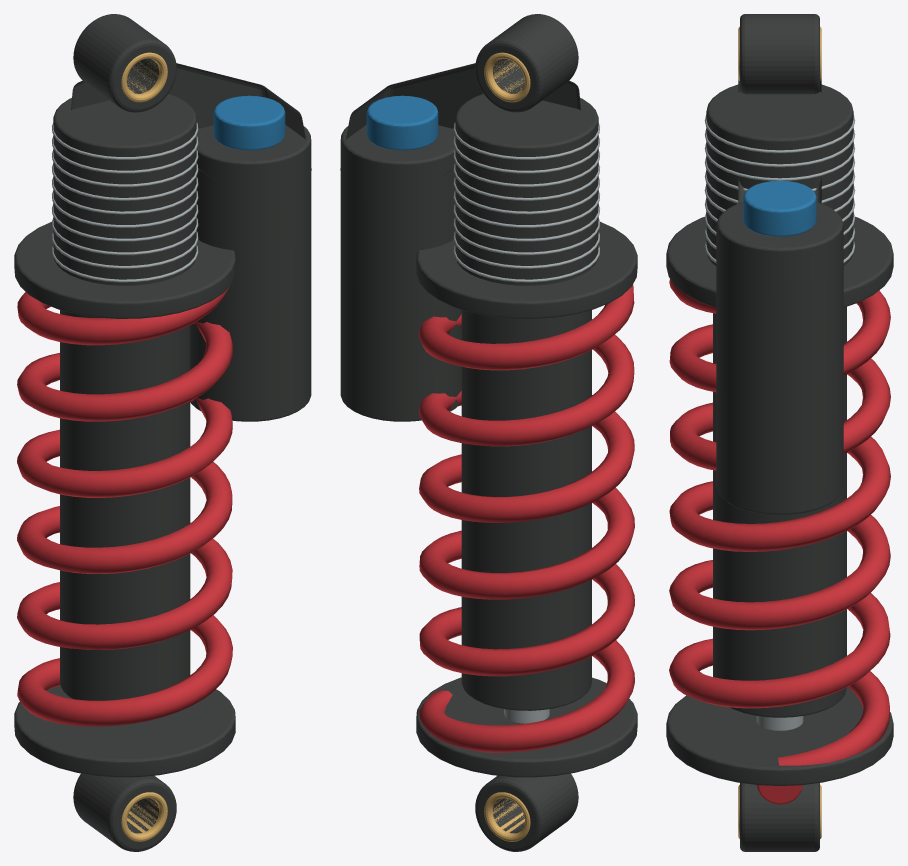
File: rockshox-vivid-coil-ultimate-d1--b34947e4.glb
The picture shows the model from 3 angles, left to right: view 1: azimuth 30°, elevation 25°; view 2: azimuth 150°, elevation 25°; view 3: azimuth 270°, elevation 25°; orthographic projection. The views are drawn at different scales.
Visible parts, largest first — view 1: rockshox-vivid-coil-ultimate-d1--b34947e4__link, rockshox-vivid-coil-ultimate-d1--b34947e4__rebound, rockshox-vivid-coil-ultimate-d1--b34947e4__bolts, rockshox-vivid-coil-ultimate-d1--b34947e4__adjuster, rockshox-vivid-coil-ultimate-d1--b34947e4__stanchions; view 2: rockshox-vivid-coil-ultimate-d1--b34947e4__link, rockshox-vivid-coil-ultimate-d1--b34947e4__rebound, rockshox-vivid-coil-ultimate-d1--b34947e4__bolts, rockshox-vivid-coil-ultimate-d1--b34947e4__adjuster, rockshox-vivid-coil-ultimate-d1--b34947e4__stanchions; view 3: rockshox-vivid-coil-ultimate-d1--b34947e4__link, rockshox-vivid-coil-ultimate-d1--b34947e4__rebound, rockshox-vivid-coil-ultimate-d1--b34947e4__bolts, rockshox-vivid-coil-ultimate-d1--b34947e4__adjuster.
Boxes of the visible parts, <box> form: rockshox-vivid-coil-ultimate-d1--b34947e4__link: <box>14,14,311,851</box>; rockshox-vivid-coil-ultimate-d1--b34947e4__rebound: <box>17,286,232,726</box>; rockshox-vivid-coil-ultimate-d1--b34947e4__bolts: <box>52,122,198,282</box>; rockshox-vivid-coil-ultimate-d1--b34947e4__adjuster: <box>213,95,285,150</box>; rockshox-vivid-coil-ultimate-d1--b34947e4__stanchions: <box>121,52,167,841</box>; rockshox-vivid-coil-ultimate-d1--b34947e4__link: <box>340,14,637,851</box>; rockshox-vivid-coil-ultimate-d1--b34947e4__rebound: <box>418,284,634,752</box>; rockshox-vivid-coil-ultimate-d1--b34947e4__bolts: <box>453,122,599,723</box>; rockshox-vivid-coil-ultimate-d1--b34947e4__adjuster: <box>366,95,438,150</box>; rockshox-vivid-coil-ultimate-d1--b34947e4__stanchions: <box>484,52,530,841</box>; rockshox-vivid-coil-ultimate-d1--b34947e4__link: <box>666,14,893,851</box>; rockshox-vivid-coil-ultimate-d1--b34947e4__rebound: <box>669,279,890,804</box>; rockshox-vivid-coil-ultimate-d1--b34947e4__bolts: <box>704,115,855,730</box>; rockshox-vivid-coil-ultimate-d1--b34947e4__adjuster: <box>743,180,816,236</box>.
Bounding box in the file's own units: 0.097 × 0.274 × 0.068.
